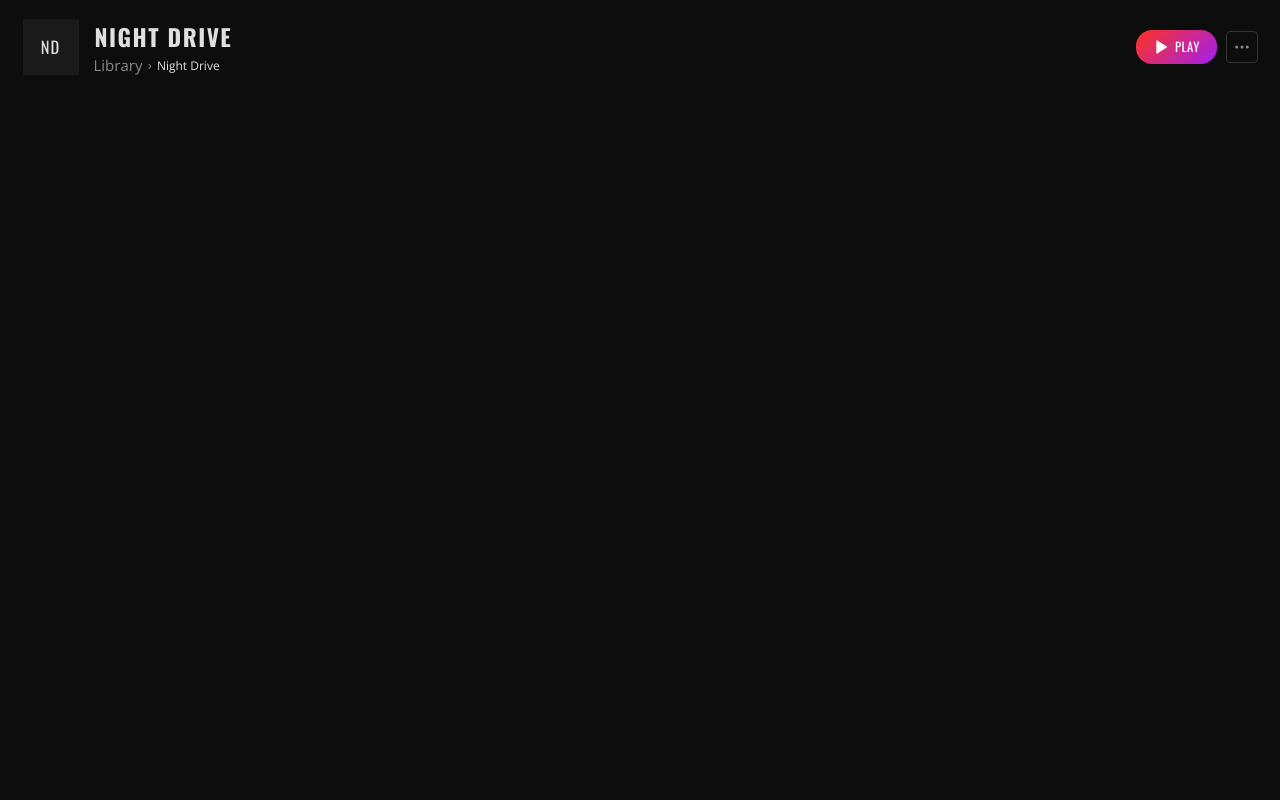
it: CollectionHeader › names the object first in the menu and lists album entries in order, without Remove cover when there is no cover
Click the button named "More": x=1242, y=46 [1226,30,1258,62]
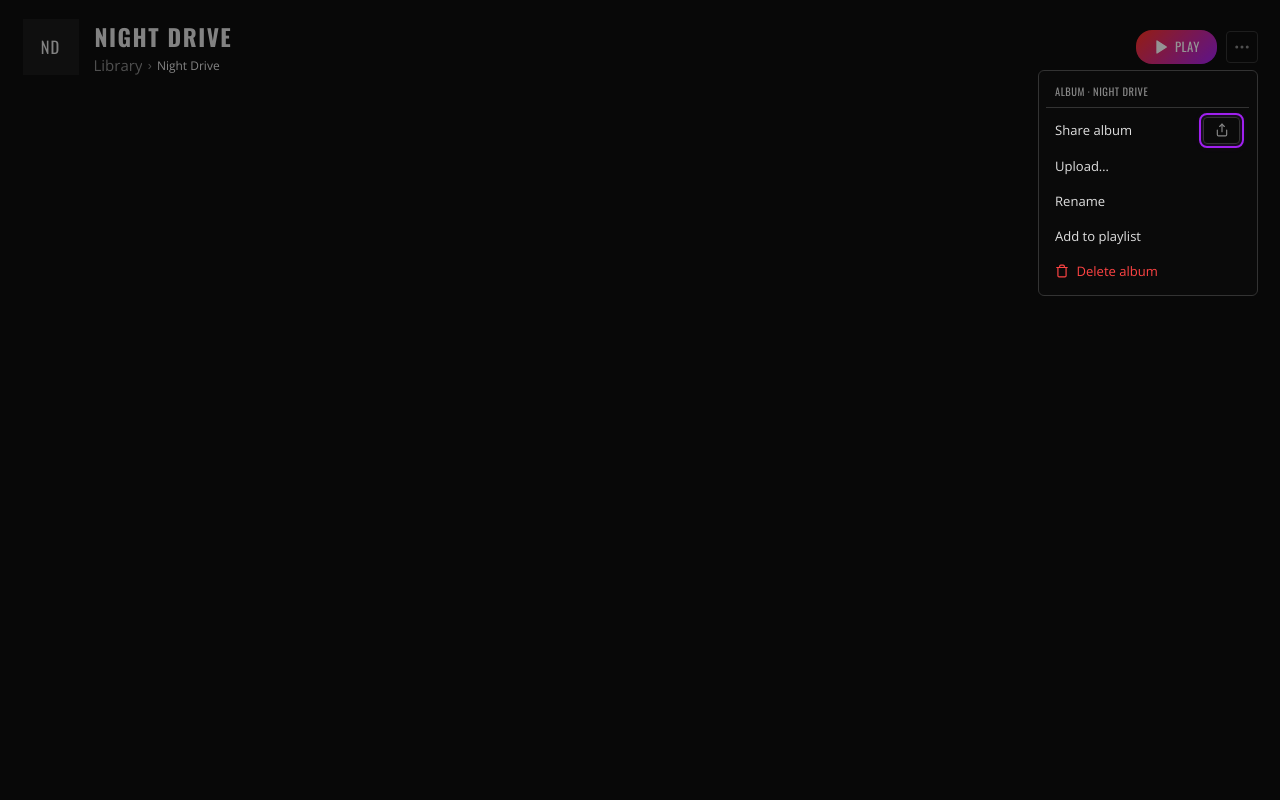
Now the text with class "menu-heading" reads "Album · Night Drive", box [1055,83,1148,99]
